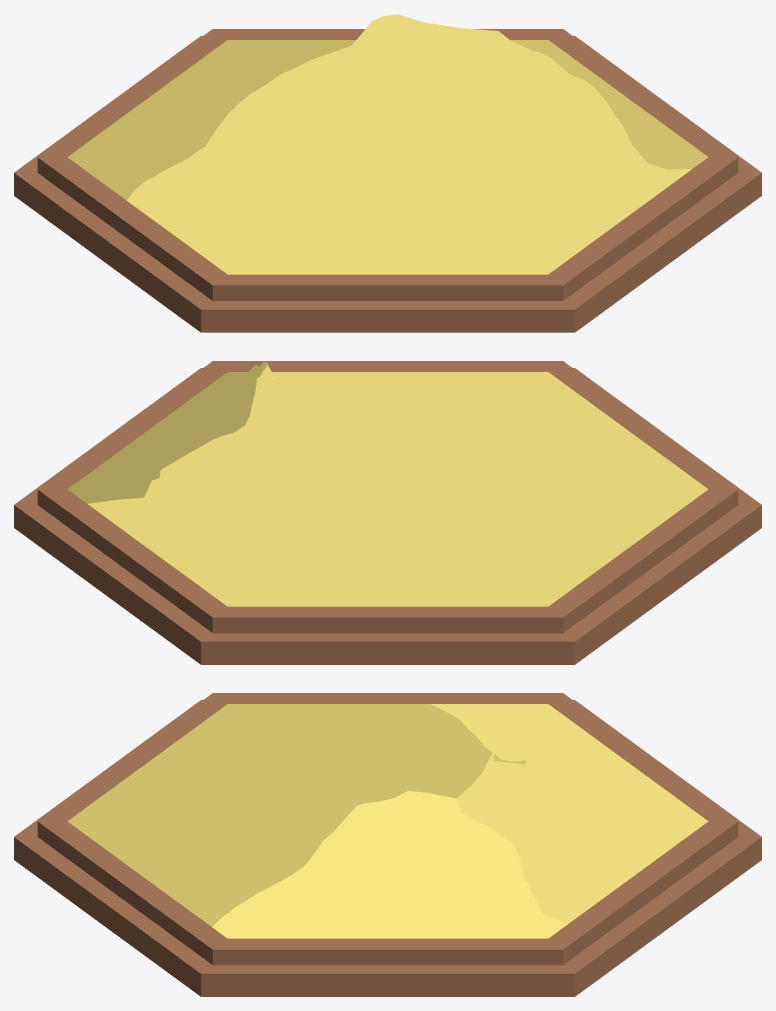
File: HexWueste.glb
3 renders of one model, top to bottom at view 1: azimuth 30°, elevation 25°; view 2: azimuth 150°, elevation 25°; view 3: azimuth 270°, elevation 25°, orthographic.
Visible parts, largest first — view 1: Wueste; view 2: Wueste; view 3: Wueste.
Part boxes in pixels (bbox=[...]): Wueste: bbox=[14, 14, 761, 332]; Wueste: bbox=[14, 361, 761, 664]; Wueste: bbox=[14, 693, 761, 996].
Bounding box in the file's own units: 6.93 × 1.53 × 8.
